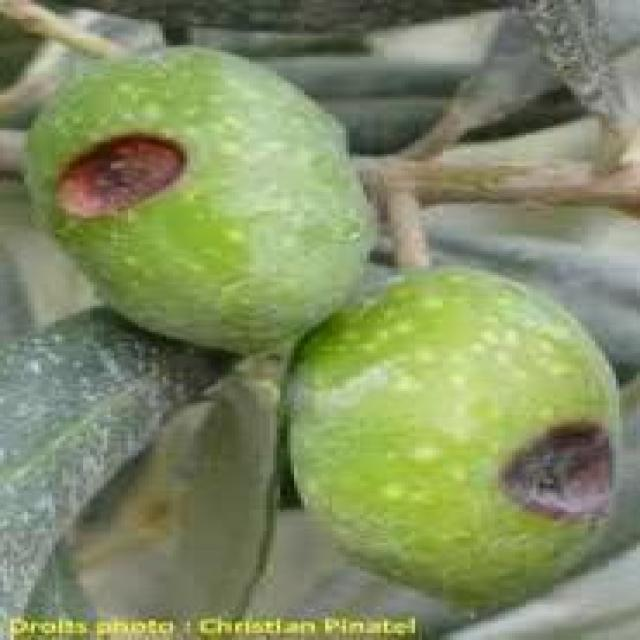Olive Fruit Fly: (284, 265, 616, 604), (24, 47, 370, 353)
